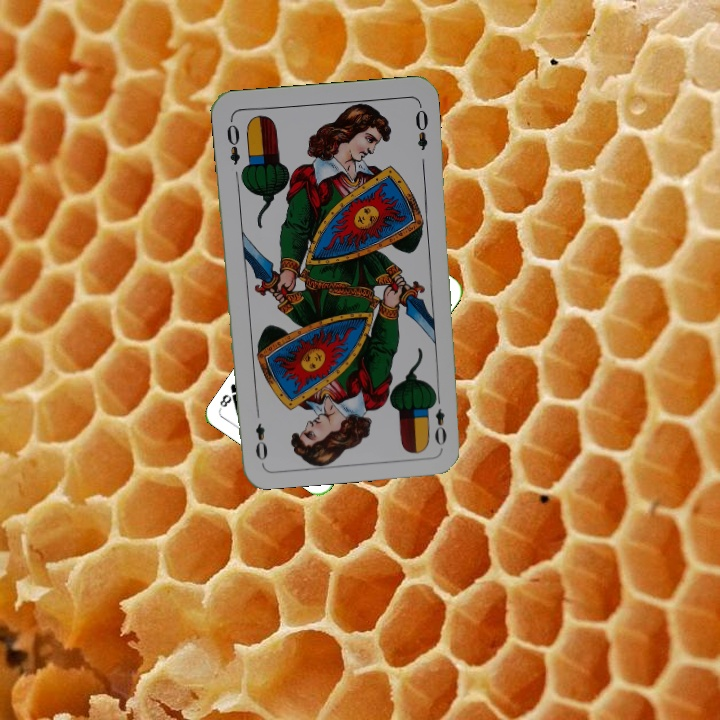EO: (427, 390, 449, 448), (222, 115, 243, 167)
